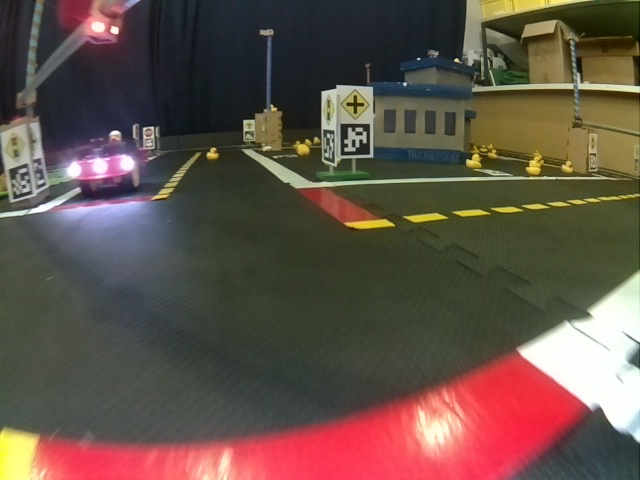Duckie: (527, 160, 541, 175), (466, 154, 481, 167), (561, 161, 573, 173), (109, 130, 121, 142), (207, 148, 219, 159), (296, 144, 309, 154), (529, 157, 541, 166)
Duckiebot: (67, 142, 141, 197)
Intersection sign: (340, 88, 371, 121)
QR code: (341, 124, 372, 155), (9, 164, 33, 200), (32, 164, 46, 192), (322, 130, 334, 162)
Signal sign: (6, 125, 29, 164), (322, 93, 336, 127)
Traffic light: (85, 7, 125, 43)
